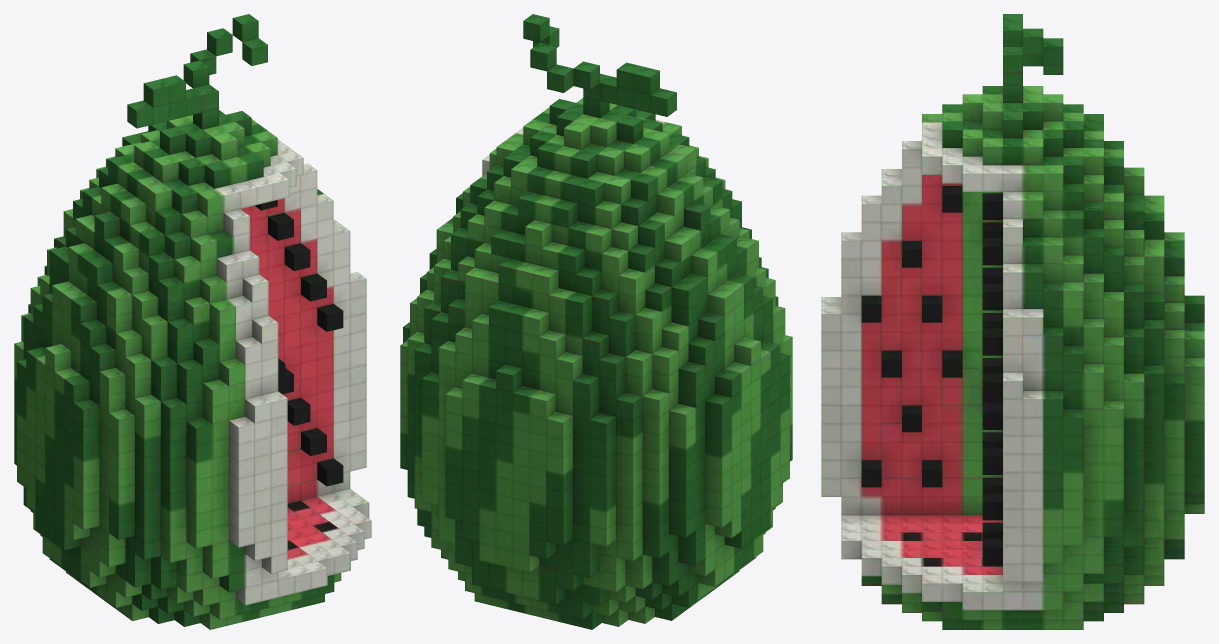
The model's file is watermelon.glb.
3 views of the same model, side by side, from view 1: azimuth 30°, elevation 25°; view 2: azimuth 150°, elevation 25°; view 3: azimuth 270°, elevation 25° (orthographic). The views are drawn at different scales.
Parts seen in each view (by area): view 1: Body.004; view 2: Body.004; view 3: Body.004.
Boxes of the visible parts, bbox=[...] form: Body.004: bbox=[14, 14, 371, 629]; Body.004: bbox=[400, 14, 792, 629]; Body.004: bbox=[821, 14, 1204, 629].
Size of the model in its own units: 2.85 by 4.65 by 2.85.
Materials: 1 (1 with a texture image).
